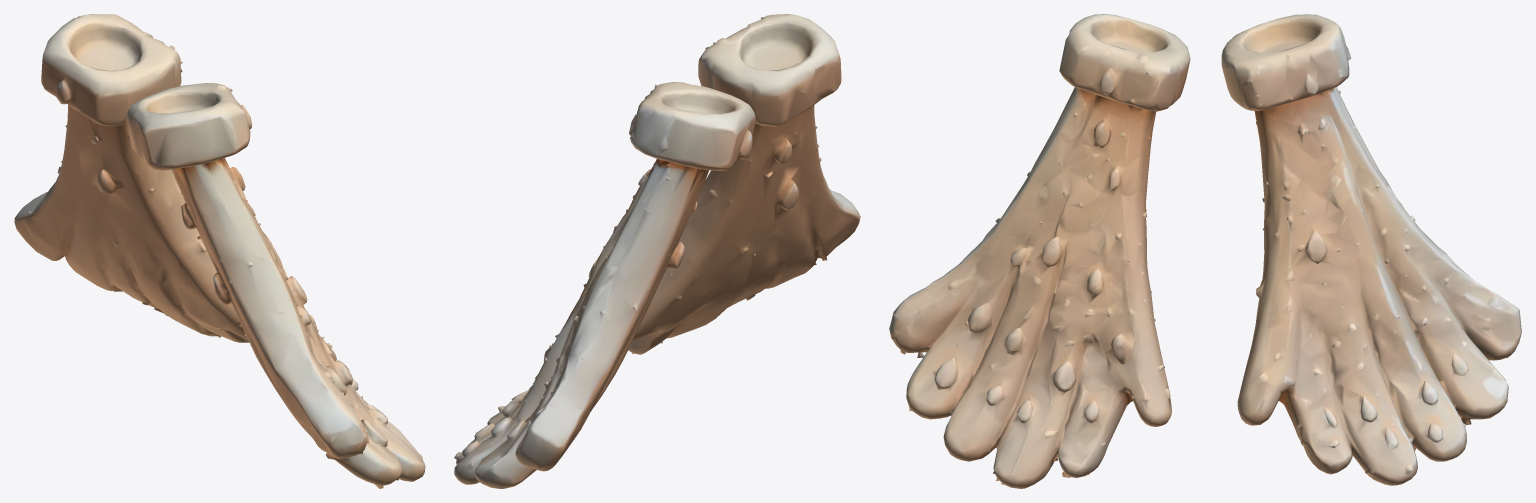
The model's file is legs.glb.
3 views of the same model, side by side, from view 1: azimuth 30°, elevation 25°; view 2: azimuth 150°, elevation 25°; view 3: azimuth 270°, elevation 25° (orthographic).
Parts seen in each view (by area): view 1: tripo_node_dda309aa-2191-4b17-aa98-0b43ccd2ef4e; view 2: tripo_node_dda309aa-2191-4b17-aa98-0b43ccd2ef4e; view 3: tripo_node_dda309aa-2191-4b17-aa98-0b43ccd2ef4e.
Part boxes in pixels (<box>): tripo_node_dda309aa-2191-4b17-aa98-0b43ccd2ef4e: <box>14,14,425,488</box>; tripo_node_dda309aa-2191-4b17-aa98-0b43ccd2ef4e: <box>454,14,860,488</box>; tripo_node_dda309aa-2191-4b17-aa98-0b43ccd2ef4e: <box>889,14,1521,488</box>.
Size of the model in its own units: 0.424 by 0.6631 by 1.
Materials: 1 (1 with a texture image).
